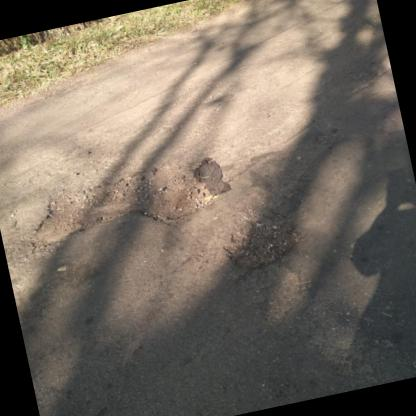pothole: (16, 150, 225, 258), (215, 204, 306, 274)
